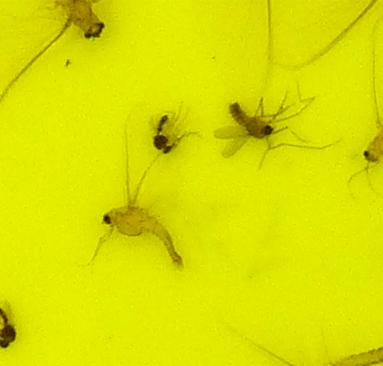Brachycera: (150, 112, 182, 156)
Ephemeroptera: (100, 199, 183, 266)
Nematocera: (226, 100, 283, 142)
